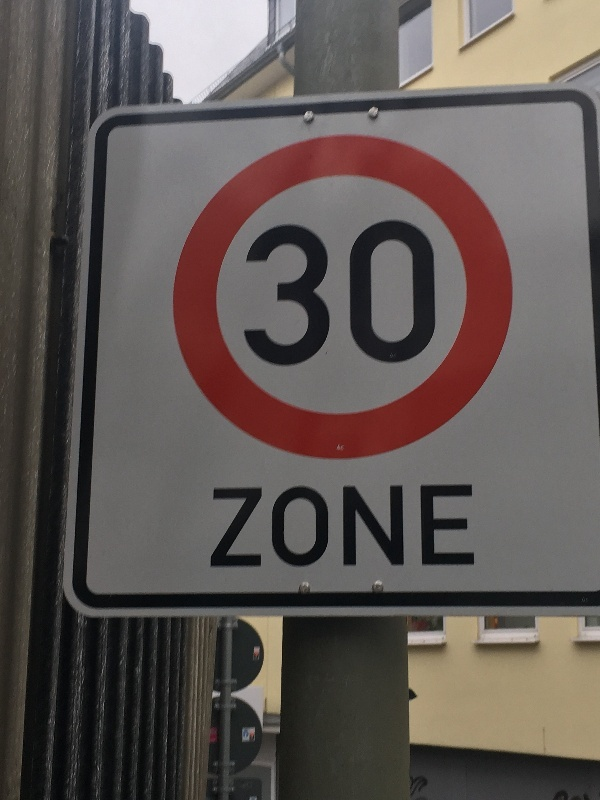text: (257, 217, 272, 368), (273, 217, 288, 368), (289, 217, 304, 368), (305, 217, 320, 368), (321, 217, 336, 368), (337, 217, 352, 368), (353, 217, 368, 368), (369, 217, 384, 368), (385, 217, 400, 368), (401, 217, 416, 368), (417, 217, 432, 368), (247, 217, 256, 368), (225, 485, 240, 569), (241, 485, 256, 569), (257, 485, 272, 569), (273, 485, 288, 569), (289, 485, 304, 569), (305, 485, 320, 569), (321, 485, 336, 569), (337, 485, 352, 569), (353, 485, 368, 569), (369, 485, 384, 569), (385, 485, 400, 569), (401, 485, 416, 569), (417, 485, 432, 569), (433, 485, 448, 569), (449, 485, 464, 569), (214, 485, 224, 569), (465, 485, 475, 569), (433, 217, 436, 368)
